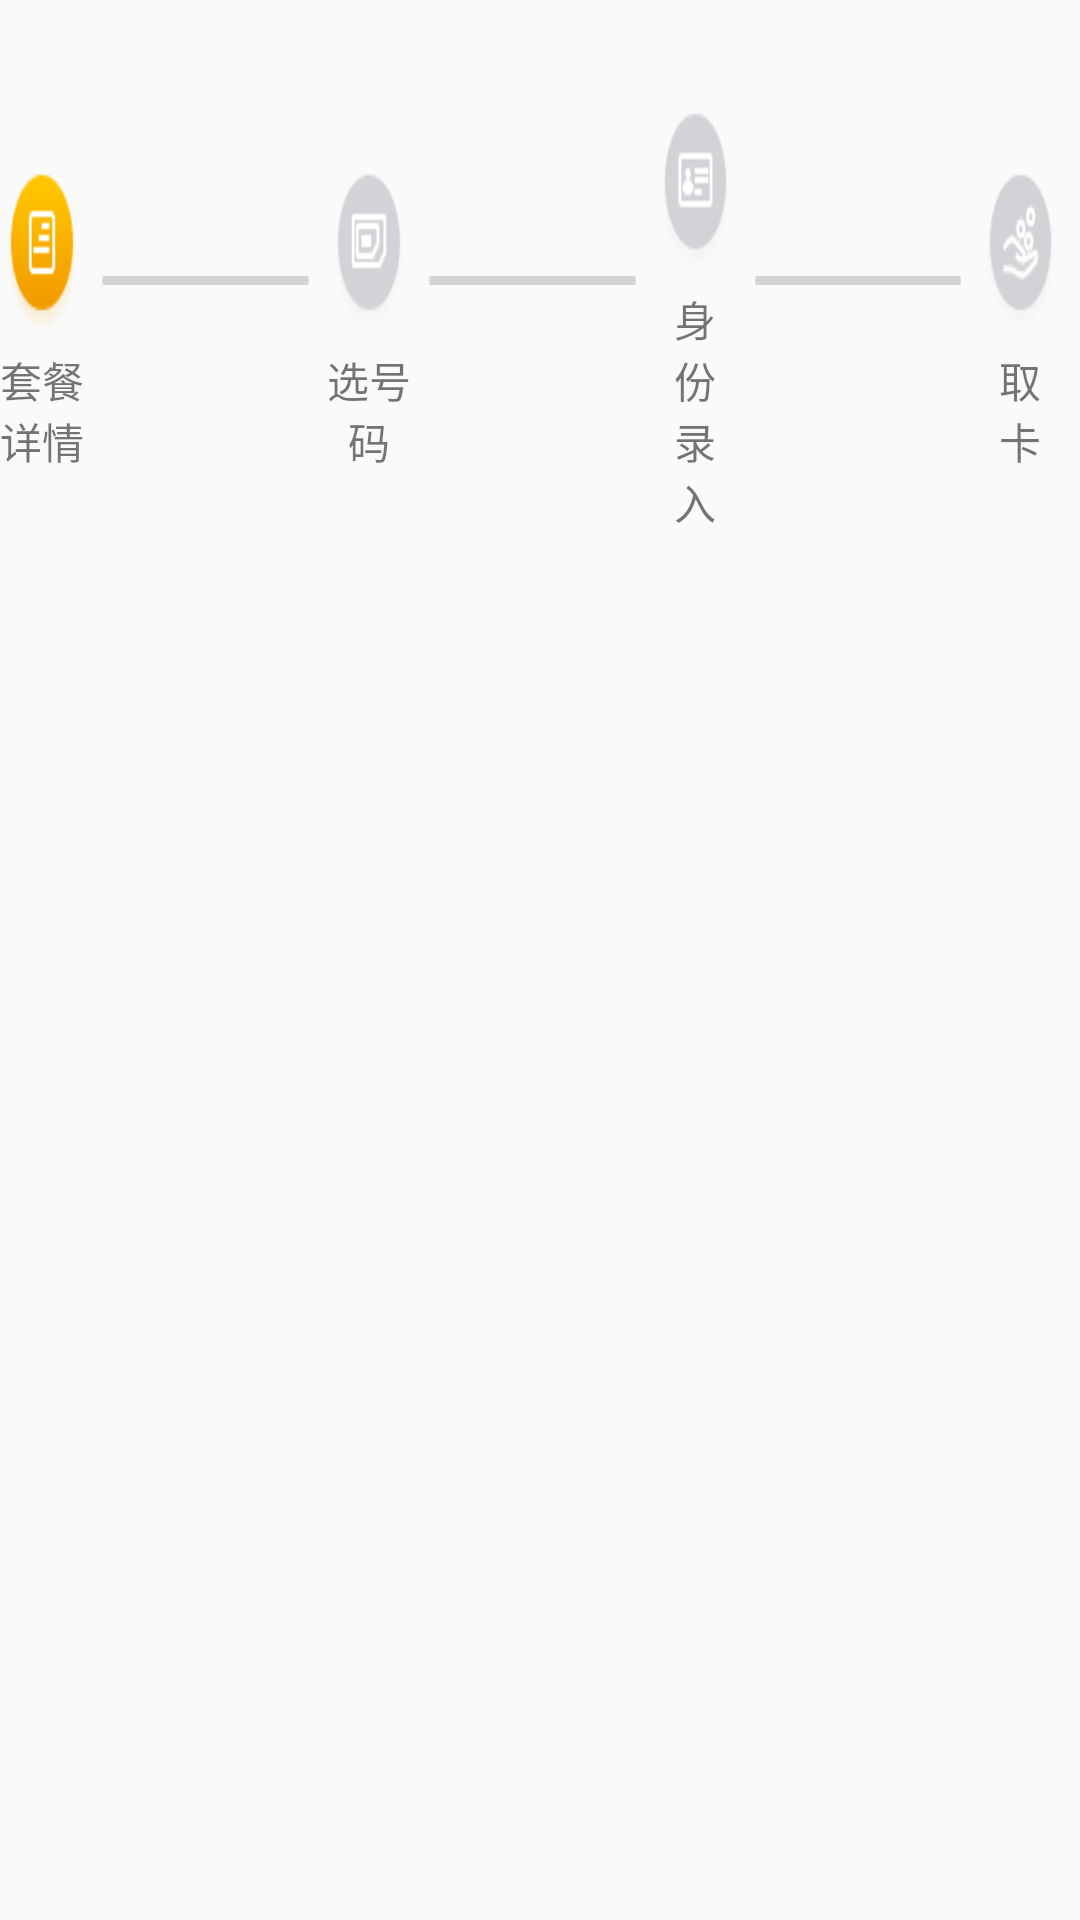

Named icons in this screenshot (1080*1920) and their bounding boxes, (x1, y1, x2, y2):
mark four pre: (990, 175, 1051, 310)
mark one curr: (10, 174, 74, 319)
mark three pre: (665, 114, 726, 249)
mark two pre: (338, 175, 400, 310)
